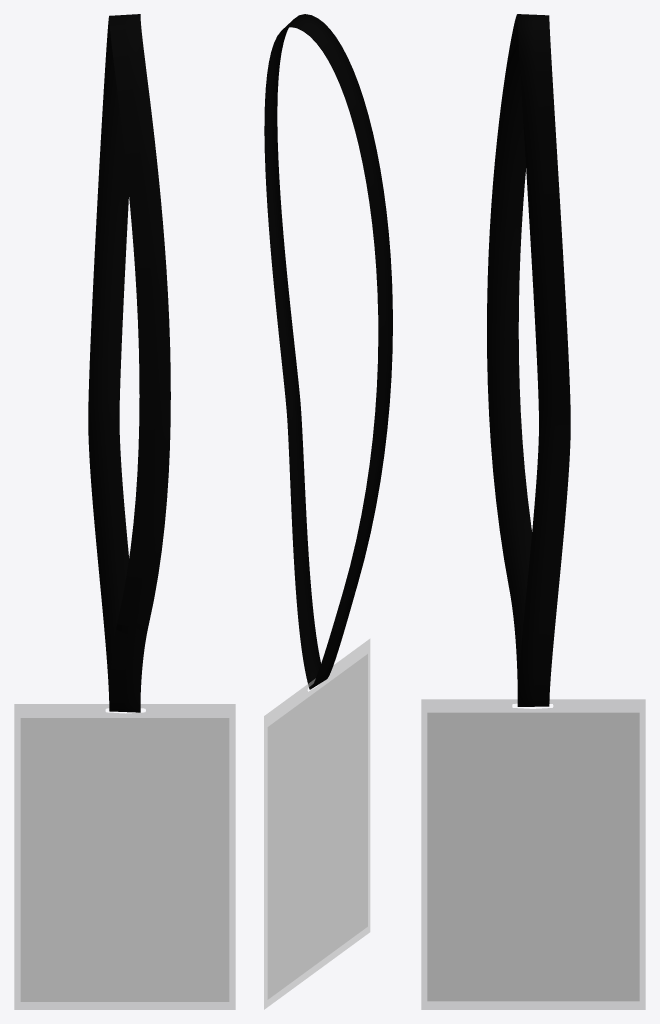
The model's file is card.glb.
3 views of the same model, side by side, from view 1: azimuth 90°, elevation 25°; view 2: azimuth 150°, elevation 25°; view 3: azimuth 270°, elevation 25° (orthographic). The views are drawn at different scales.
Visible parts, largest first — view 1: Employee Id Card Design, Ribbon, BezierCurve.001, Plastic Wrap; view 2: Employee Id Card Design, Ribbon, BezierCurve.001, Plastic Wrap; view 3: Plastic Wrap, Employee Id Card Design, Ribbon, BezierCurve.001.
Boxes of the visible parts, x1=… form: Employee Id Card Design: x1=20, y1=718, x2=229, y2=1001; Ribbon: x1=88, y1=14, x2=170, y2=712; BezierCurve.001: x1=109, y1=15, x2=155, y2=711; Plastic Wrap: x1=14, y1=704, x2=235, y2=1009; Employee Id Card Design: x1=267, y1=654, x2=367, y2=999; Ribbon: x1=264, y1=14, x2=392, y2=689; BezierCurve.001: x1=264, y1=20, x2=385, y2=688; Plastic Wrap: x1=264, y1=639, x2=370, y2=1009; Plastic Wrap: x1=421, y1=699, x2=645, y2=1009; Employee Id Card Design: x1=427, y1=712, x2=639, y2=1001; Ribbon: x1=487, y1=14, x2=554, y2=706; BezierCurve.001: x1=533, y1=14, x2=570, y2=706.
Size of the model in its own units: 0.3822 by 3.47 by 0.7058.
Materials: 3 (2 with a texture image).
